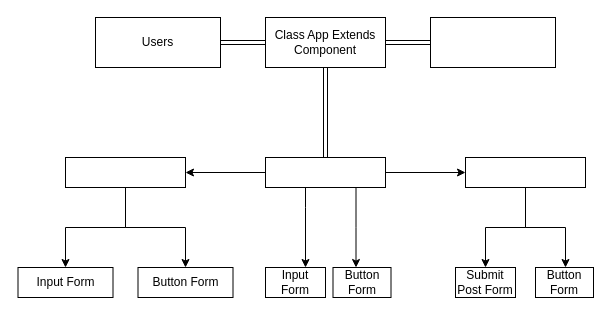
The diagram is 611 pixels wide and 315 high, and some of its shapes have lost their labels. The shapes that lost their labels are listed below. From the top down, each one's centre as x and y in pixels, then its label:
At (x=493, y=42): "Previous Posts".
At (x=125, y=172): "Sign up Page".
At (x=325, y=172): "Login Page".
At (x=525, y=172): "Posts Page".
